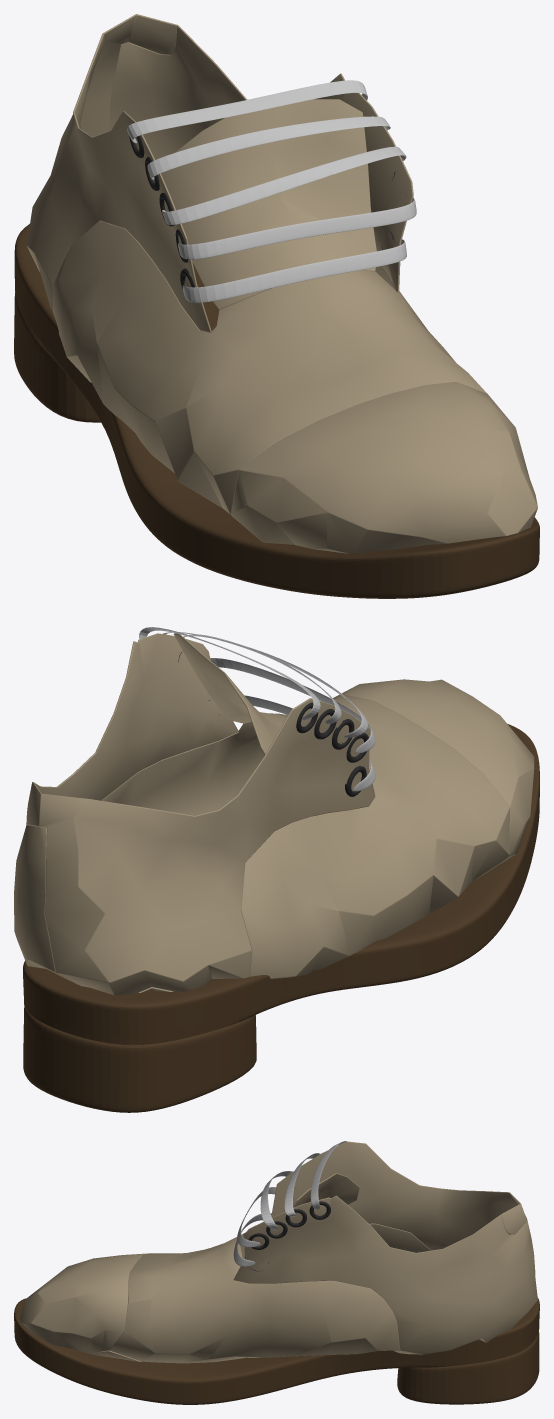
The model's file is za1pri1derecha.fbx.
3 renders of one model, top to bottom at view 1: azimuth 30°, elevation 25°; view 2: azimuth 150°, elevation 25°; view 3: azimuth 270°, elevation 25°, orthographic. The views are drawn at different scales.
Parts seen in each view (by area): view 1: ZAPATO1_3, Plane, Plane.002, Plane.005, Plane.001, Plane.004, Plane.003; view 2: ZAPATO1_3, Plane, Plane.002, Plane.004, Plane.005, Plane.001; view 3: ZAPATO1_3, Plane, Plane.001, Plane.004, Plane.003, Plane.002, Plane.005.
Part boxes in pixels (box(x1,y1,x2,y2)): ZAPATO1_3: box(27, 14, 537, 553); Plane: box(14, 224, 539, 598); Plane.002: box(178, 197, 416, 259); Plane.005: box(182, 239, 406, 302); Plane.001: box(162, 146, 406, 224); Plane.004: box(127, 80, 367, 143); Plane.003: box(147, 116, 390, 179); ZAPATO1_3: box(14, 633, 534, 995); Plane: box(23, 724, 539, 1112); Plane.002: box(210, 658, 375, 753); Plane.004: box(139, 627, 320, 720); Plane.005: box(244, 695, 375, 791); Plane.001: box(183, 634, 367, 737); ZAPATO1_3: box(19, 1141, 537, 1363); Plane: box(14, 1298, 539, 1404); Plane.001: box(260, 1171, 293, 1230); Plane.004: box(310, 1141, 347, 1209); Plane.003: box(284, 1153, 320, 1216); Plane.002: box(237, 1187, 276, 1247); Plane.005: box(233, 1213, 271, 1266).
Bounding box in the file's own units: 174 × 204 × 447.
